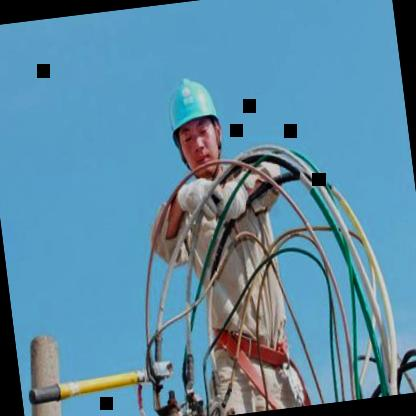helmet: (156, 61, 237, 196)
